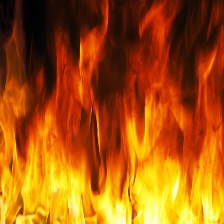fire: (1, 1, 224, 223)
